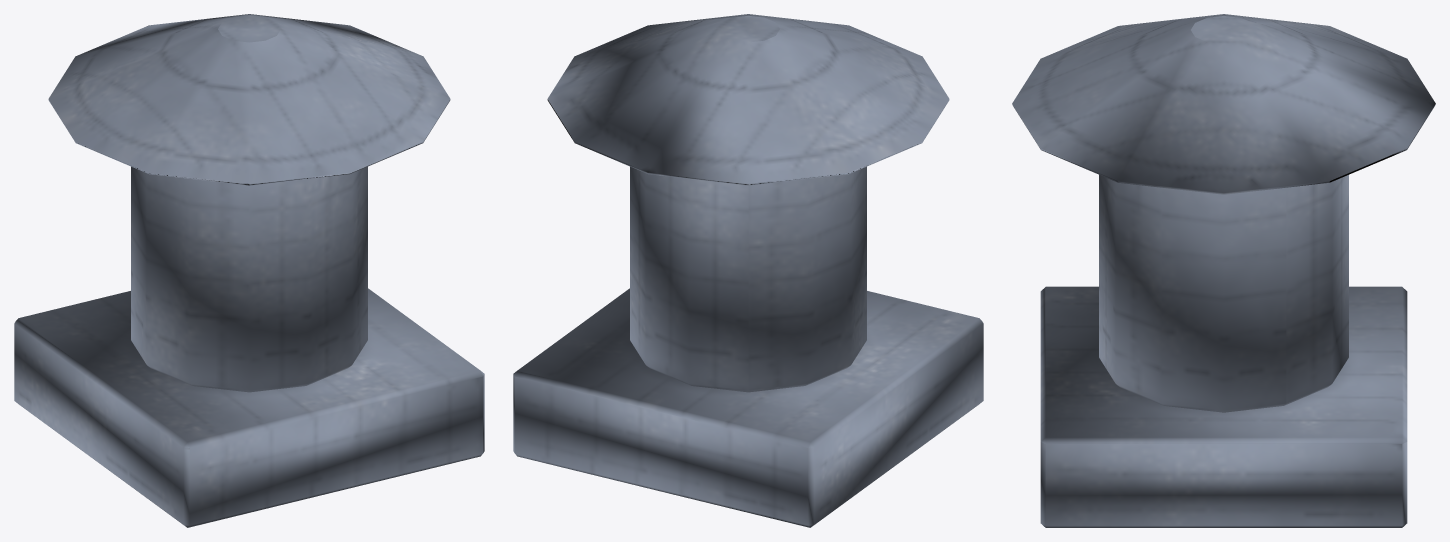
Rendered from Techo_Ventilacion.fbx.
3 renders of one model, left to right at view 1: azimuth 30°, elevation 25°; view 2: azimuth 150°, elevation 25°; view 3: azimuth 270°, elevation 25°, orthographic. The views are drawn at different scales.
Parts seen in each view (by area): view 1: Techo_Ventilacion; view 2: Techo_Ventilacion; view 3: Techo_Ventilacion.
Boxes of the visible parts, bbox=[...] form: Techo_Ventilacion: bbox=[14, 14, 484, 527]; Techo_Ventilacion: bbox=[513, 14, 983, 527]; Techo_Ventilacion: bbox=[1012, 14, 1435, 527].
Bounding box in the file's own units: 2.54 × 2.8 × 2.54.
